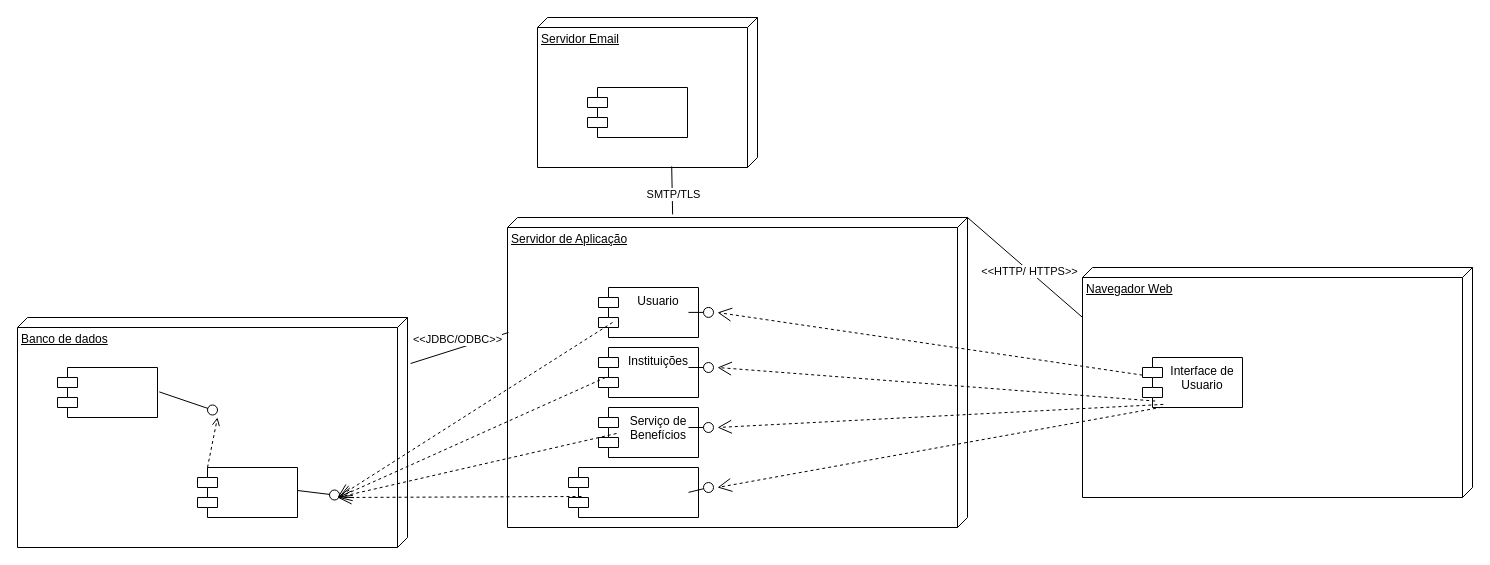
The diagram is 1490 pixels wide and 565 high, and some of its shapes have lost their labels. Each missing label, with the centre of its shape:
"Persistencia" goes at pixel 247 492.
"Serviço de Transações (Moedas)" goes at pixel 633 492.
"SGBD (mySQL)" goes at pixel 107 392.
"Sistema Email" goes at pixel 637 112.
